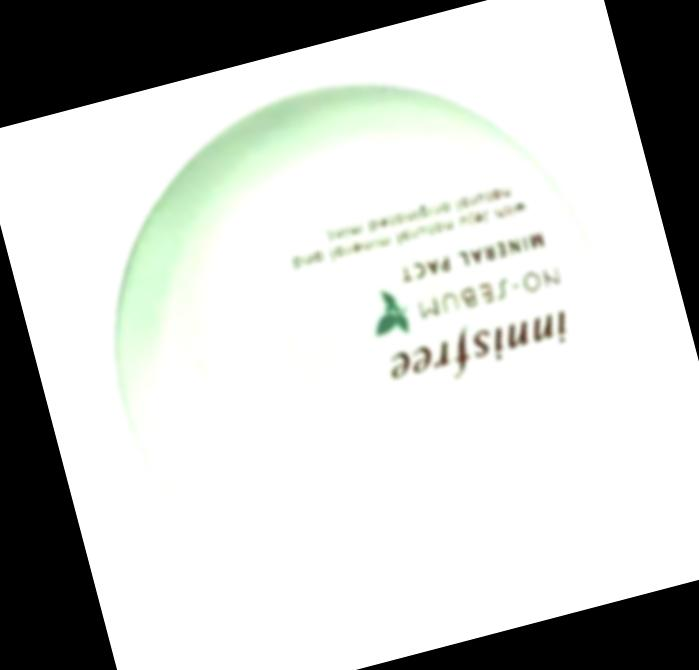cosmetic: (51, 25, 671, 656)
